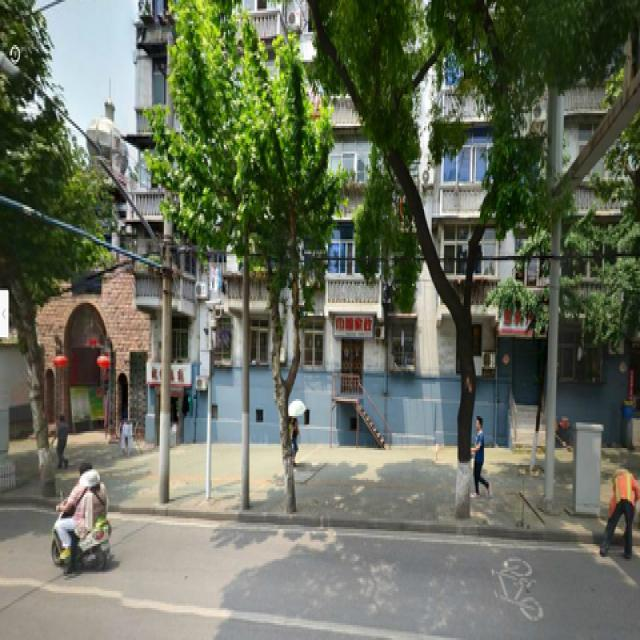meta: (195, 34, 324, 519)
